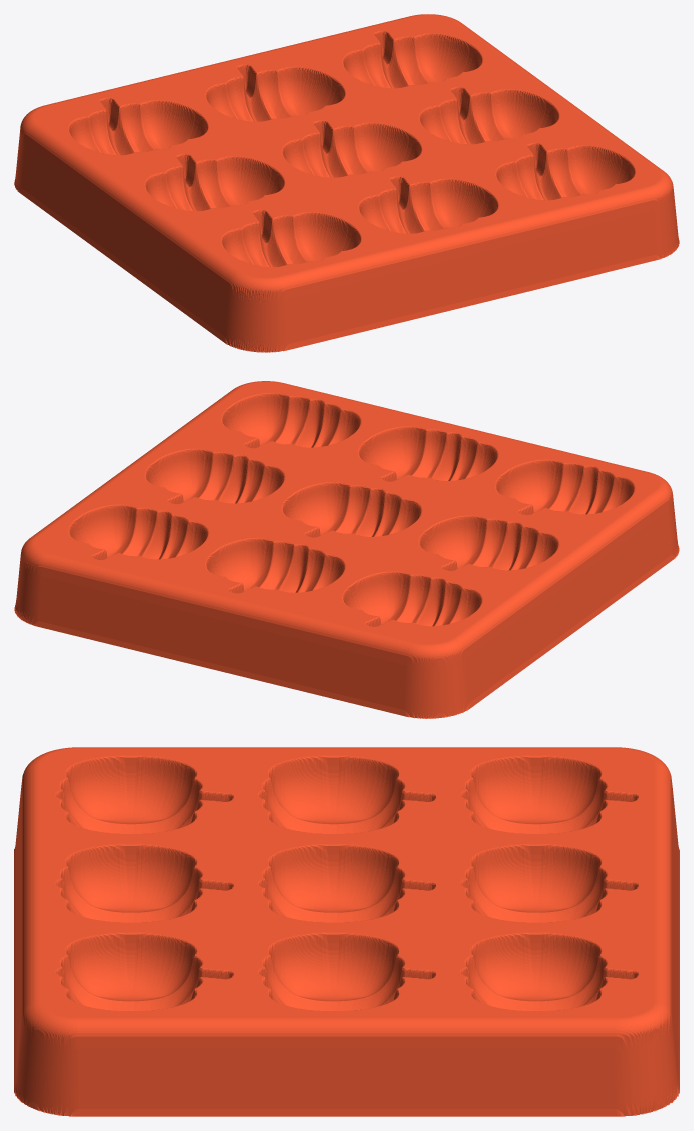
File: mold.glb
3 views of the same model, one above another, from view 1: azimuth 30°, elevation 25°; view 2: azimuth 150°, elevation 25°; view 3: azimuth 270°, elevation 25° (orthographic). The views are drawn at different scales.
Parts seen in each view (by area): view 1: geometry_0; view 2: geometry_0; view 3: geometry_0.
Part boxes in pixels (<box>): geometry_0: <box>14,14,679,352</box>; geometry_0: <box>14,381,679,718</box>; geometry_0: <box>14,747,679,1116</box>.
Size of the model in its own units: 0.0964 by 0.0136 by 0.0934.
